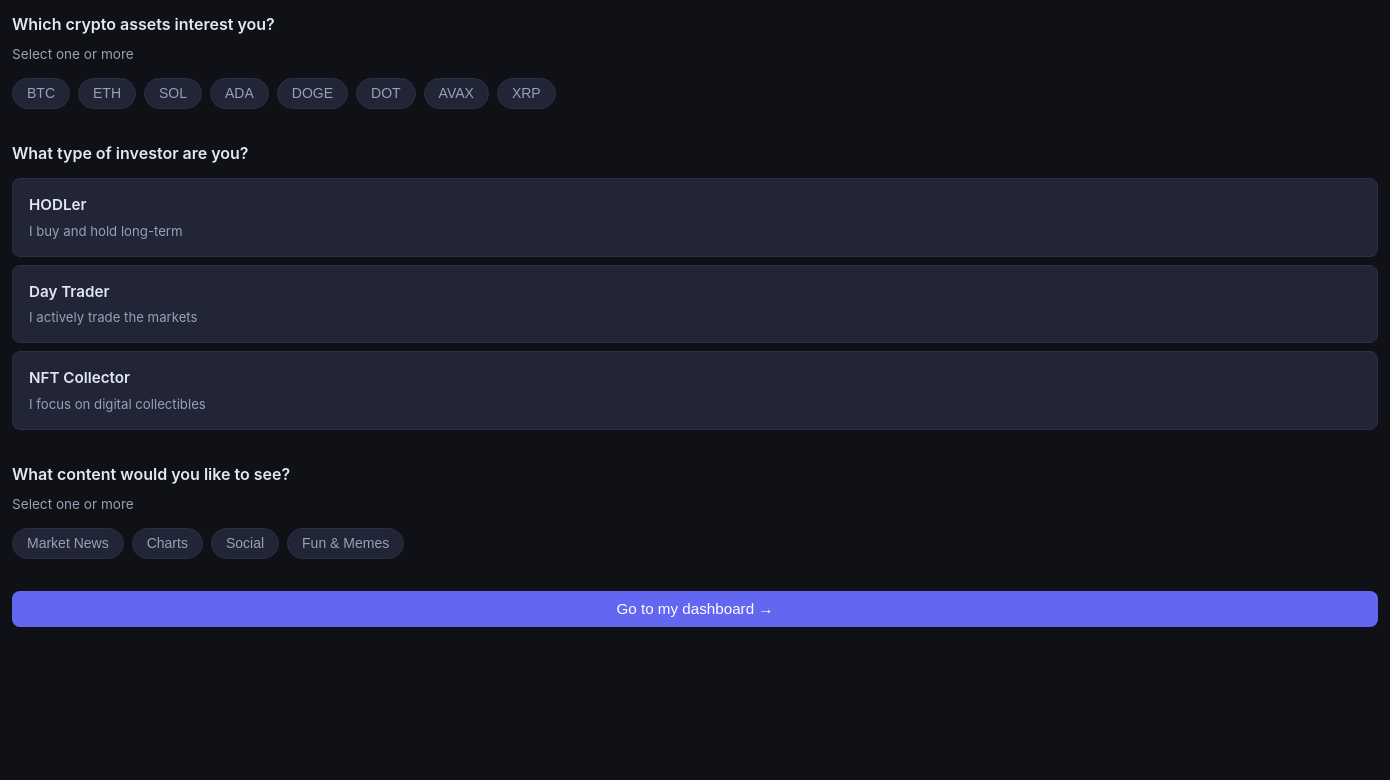
Test: OnboardingForm › shows validation error when no content type is selected
Click the button "BTC": click(41, 93) [12,78,70,109]
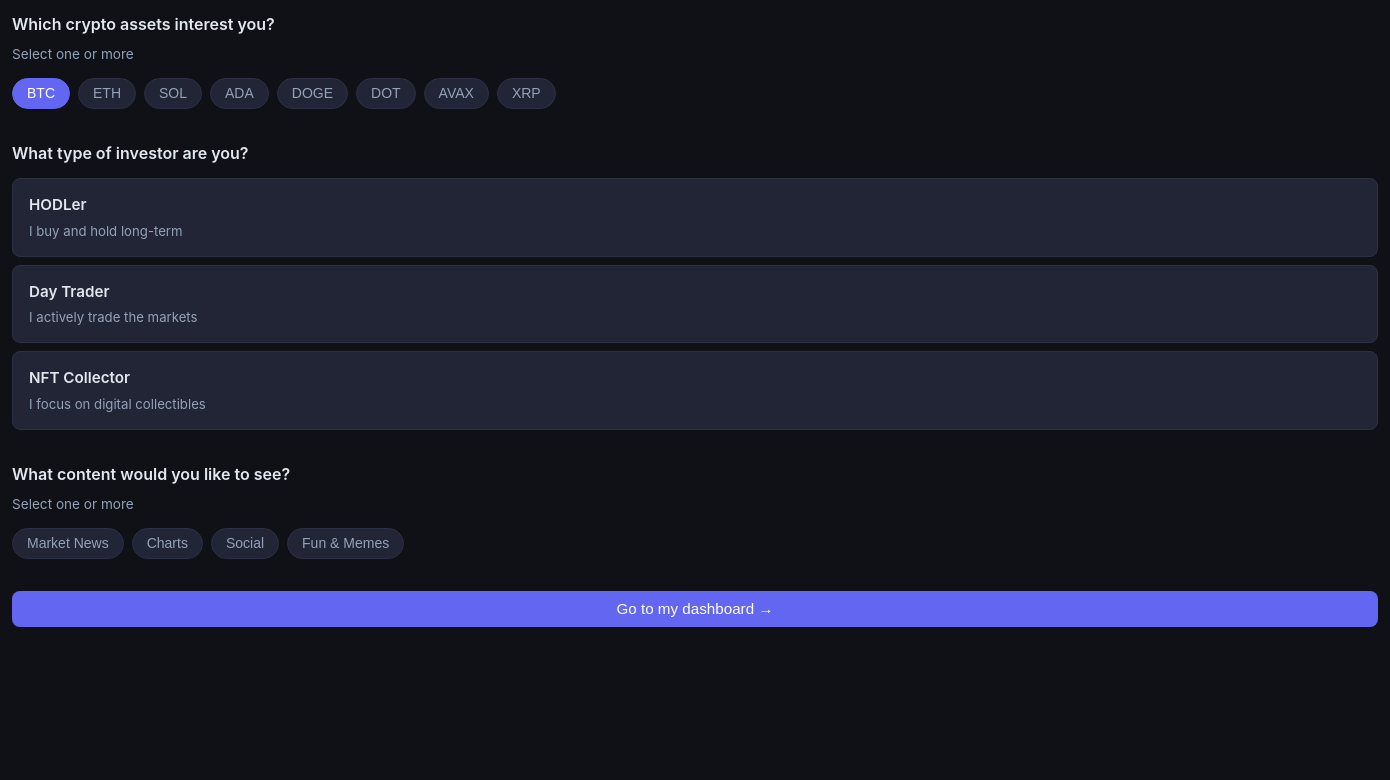
Click the radio button labelled "HODLer I buy and hold long-term": click(58, 205) [12,178,1378,257]
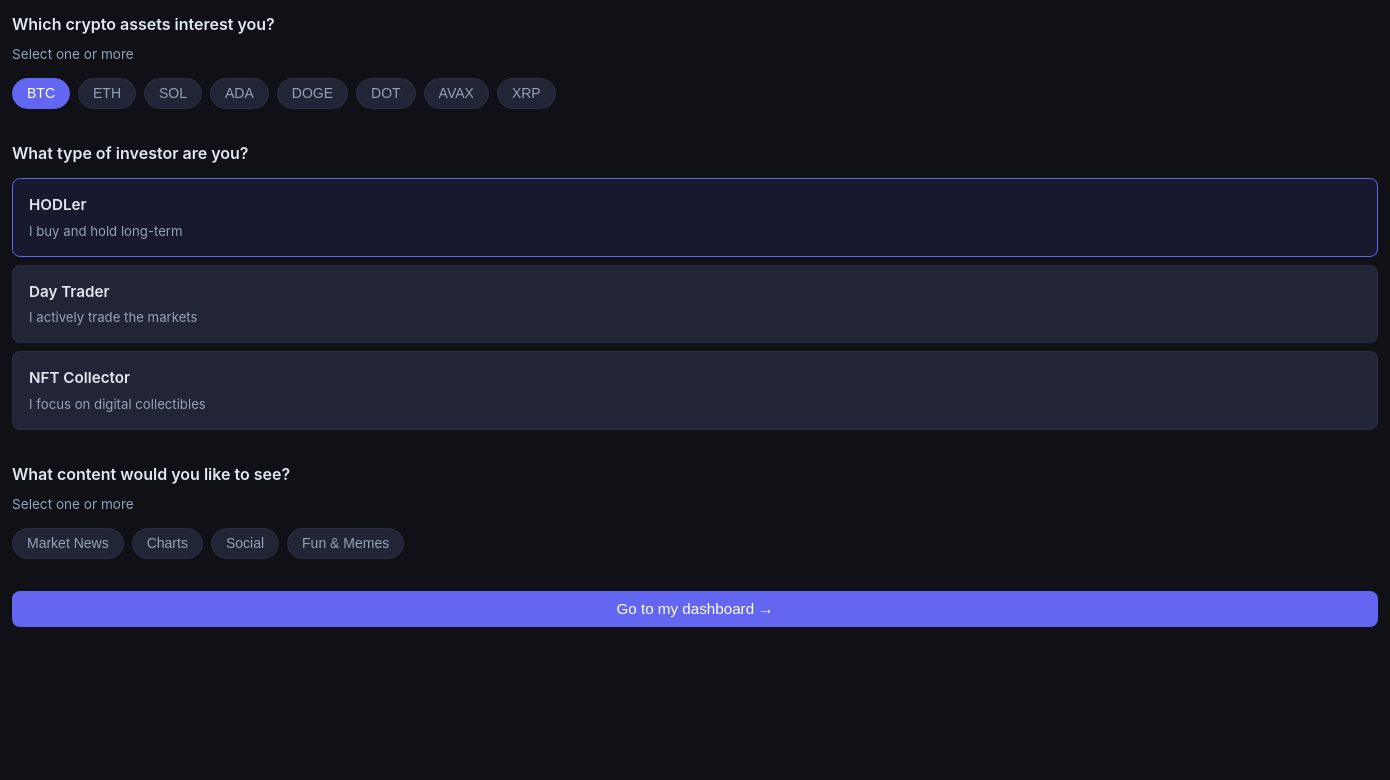
Click the button "Go to my dashboard →": click(695, 609) [12,590,1378,627]
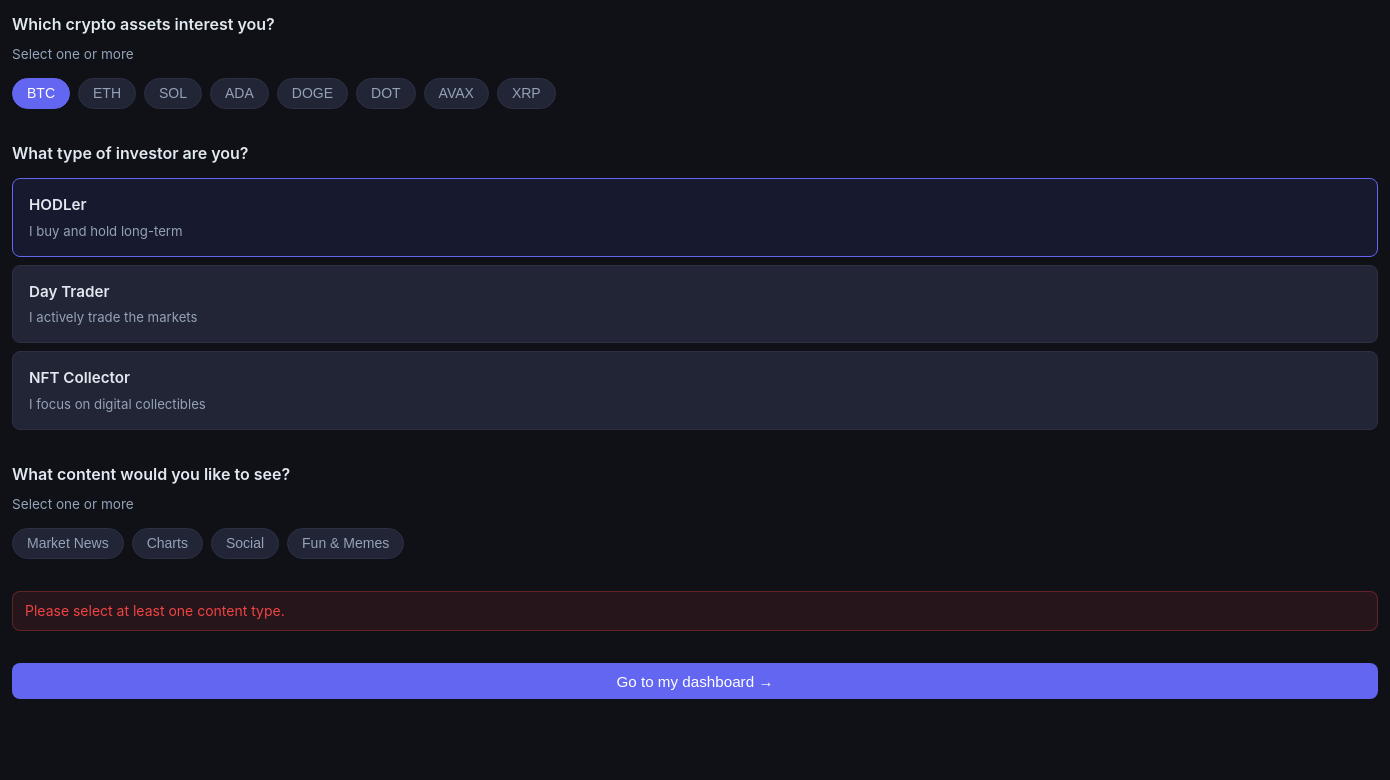
Expected: the text "Please select at least one content type." is shown, [12,590,1378,631]
